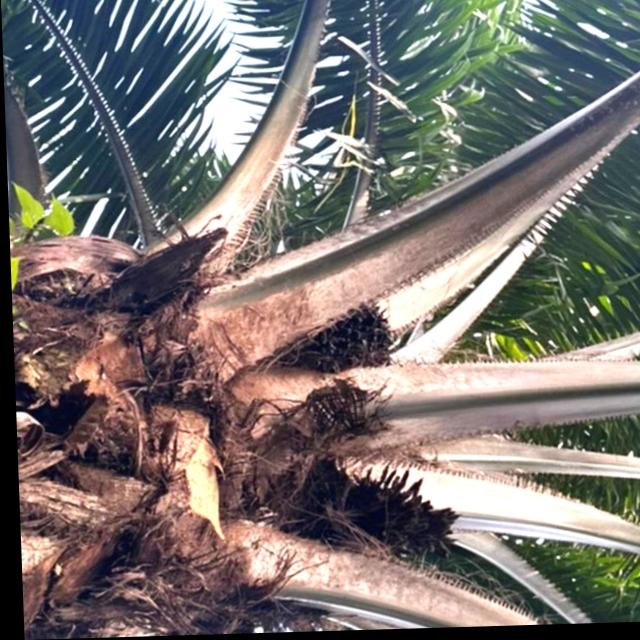unripe: (278, 302, 397, 384)
